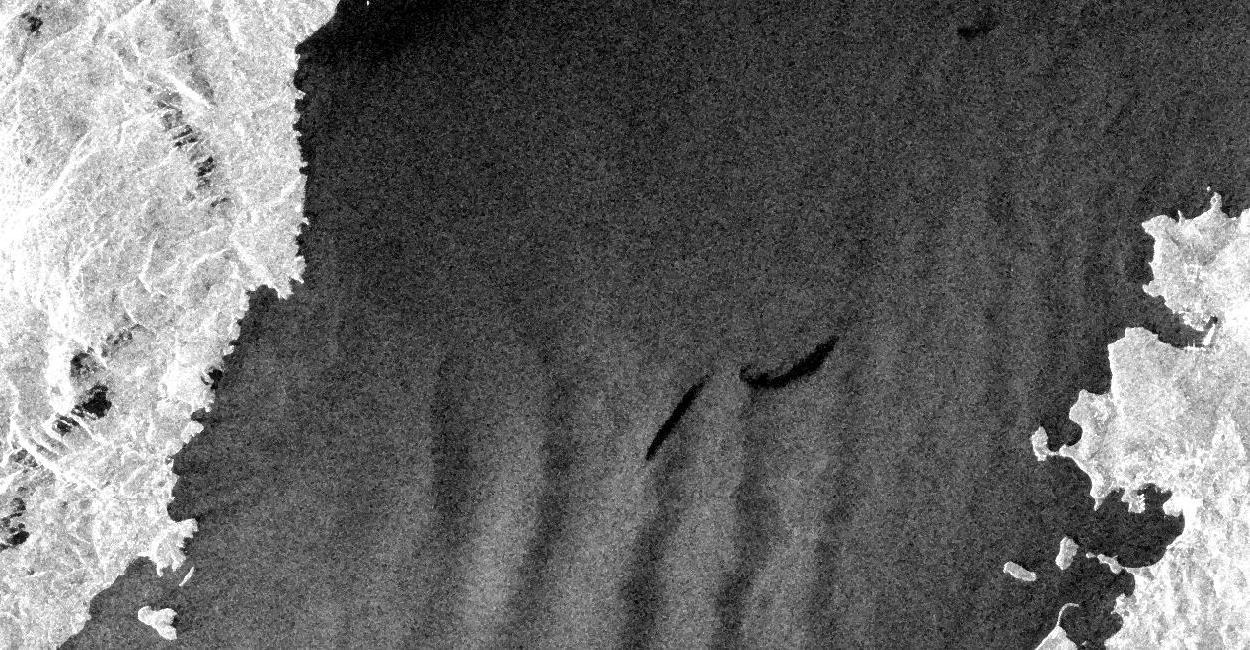Oil Spill: (738, 332, 842, 396), (644, 374, 712, 462), (956, 6, 1003, 48)
